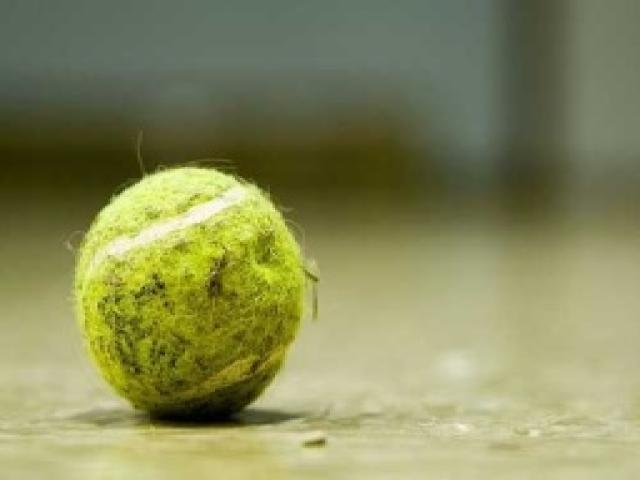tennis-ball: (70, 168, 302, 420)
